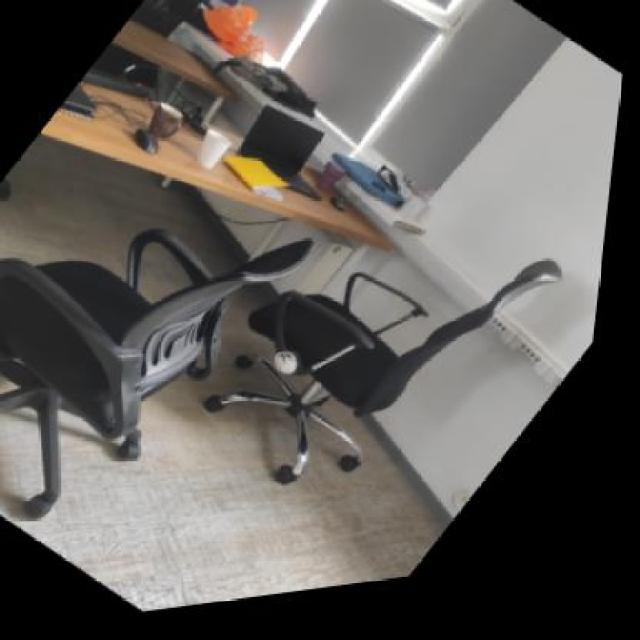chair: (166, 112, 606, 570), (0, 60, 365, 588)
